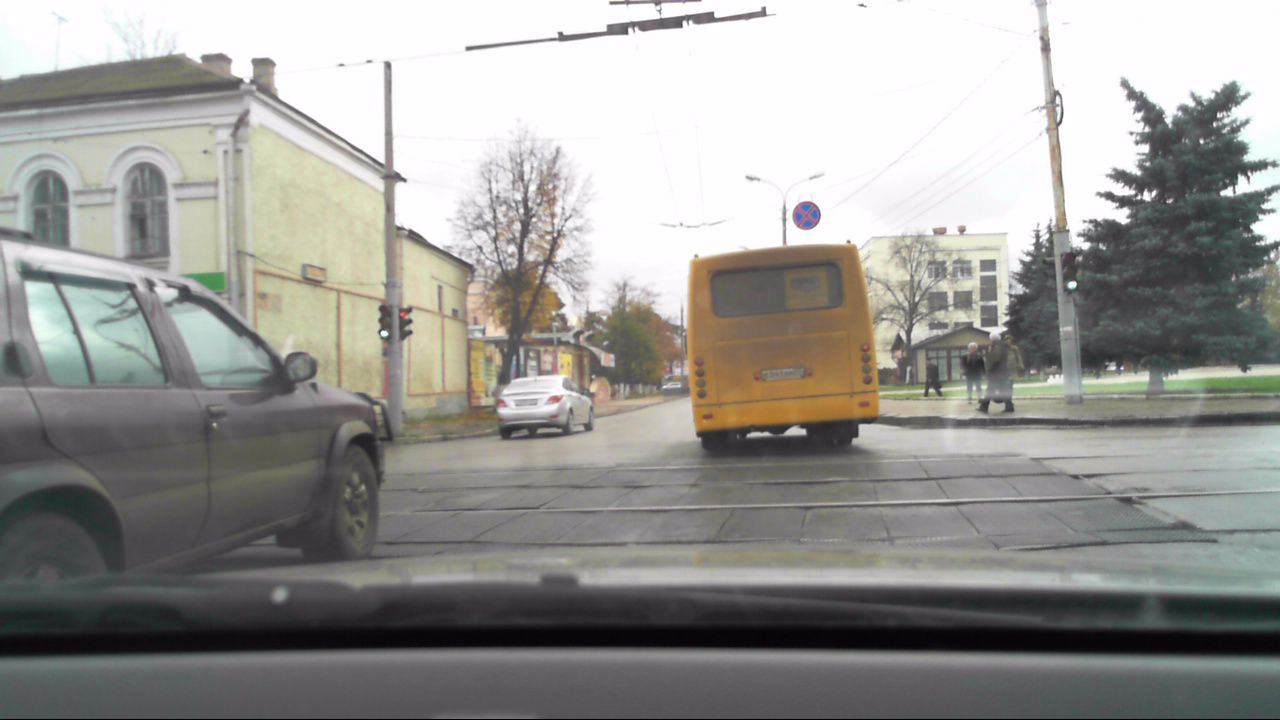No Parking: (789, 202, 823, 233)
